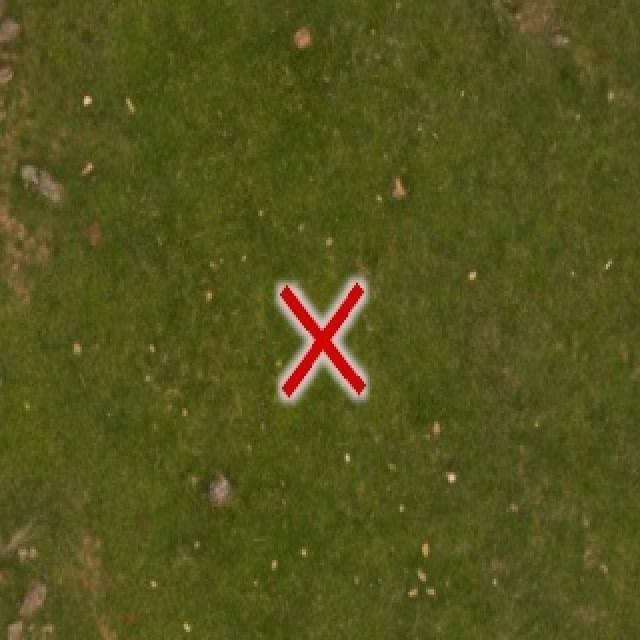x_marker: (279, 281, 363, 396)
